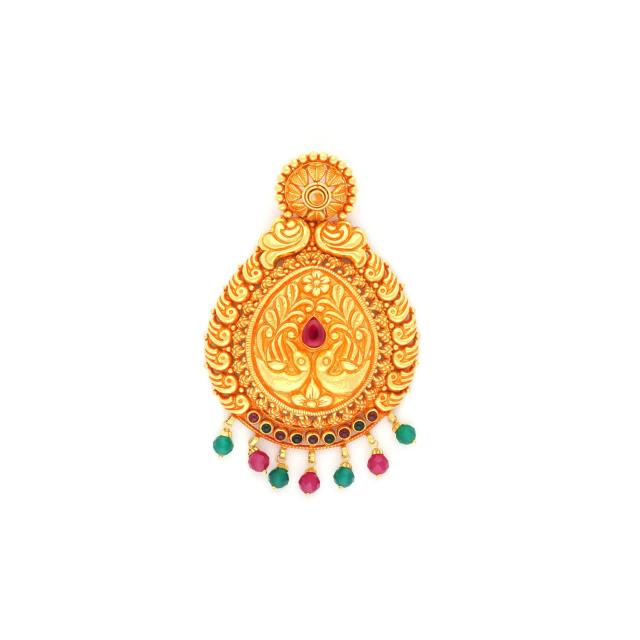missing gem: (311, 193, 322, 204)
